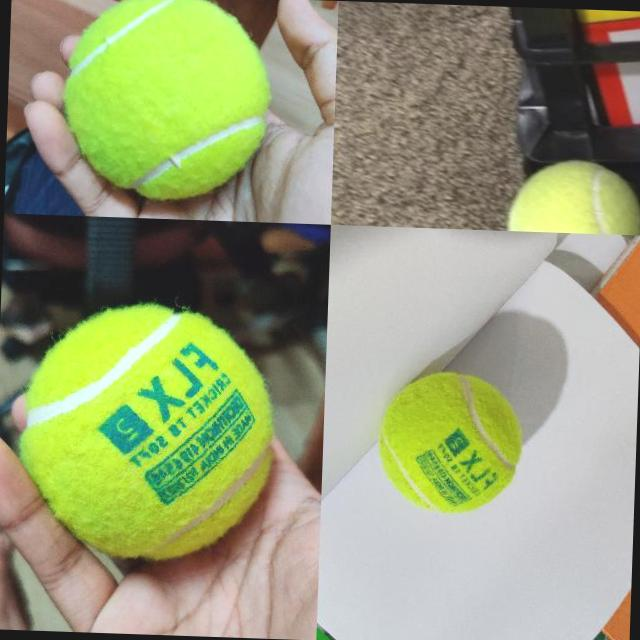Tennis Ball: (15, 300, 276, 562), (62, 0, 273, 201), (374, 368, 526, 517), (505, 155, 640, 234)
